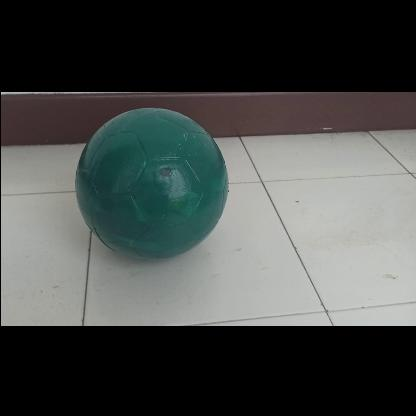green_ball: (75, 105, 227, 257)
